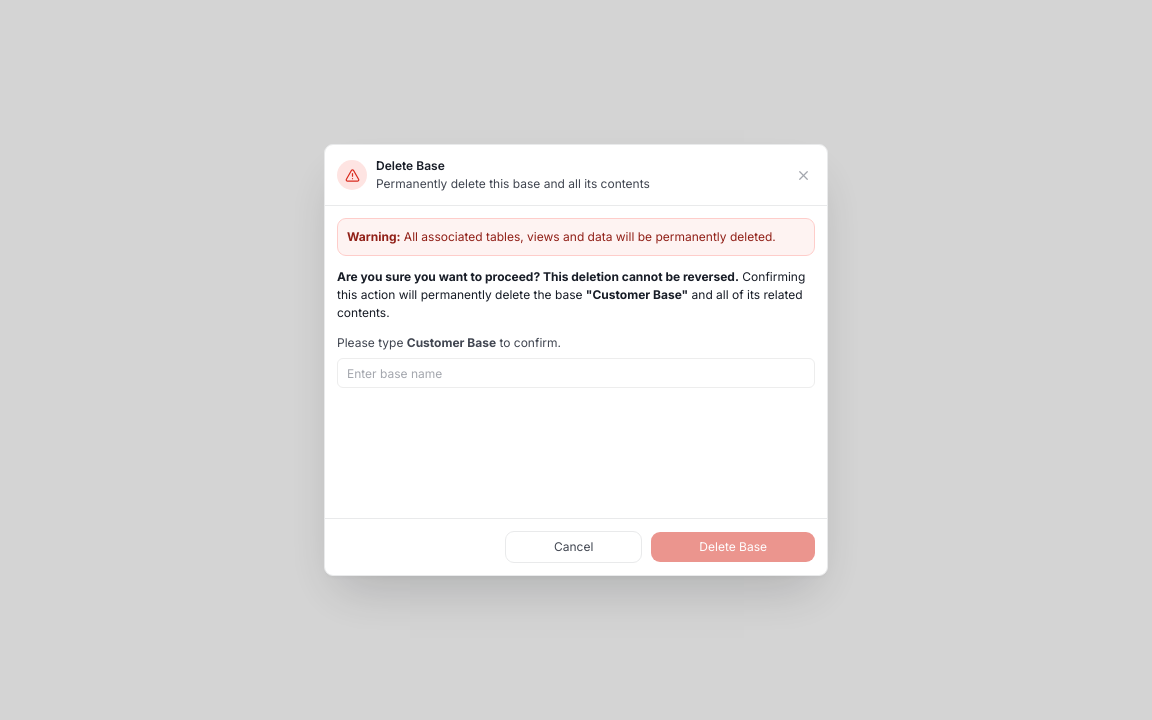
Scenario: DeleteBaseModal › enables delete button only when typed value exactly matches base title
Expected: the button "Delete Base" is disabled, 651,532 -> 815,562
In the field with placeholder "Enter base name": (576, 373) 337,358 -> 815,388, type "customer base"
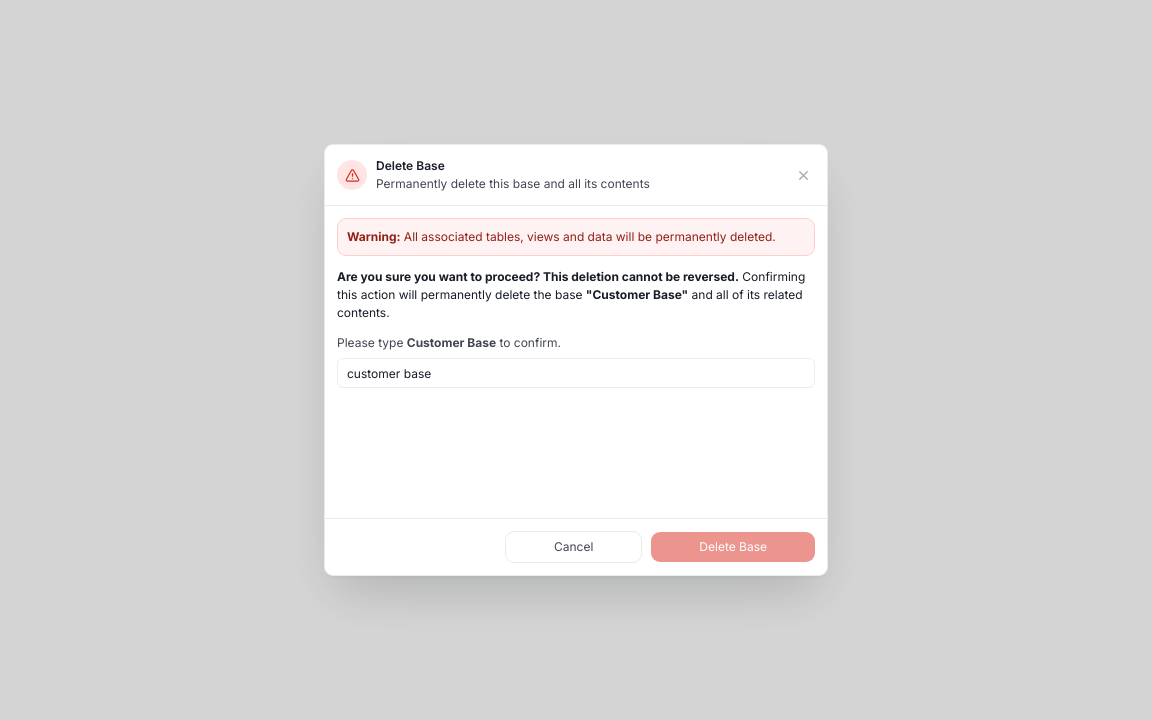
Expected: the button "Delete Base" is disabled, 651,532 -> 815,562
Replace the text in the field with placeholder "Enter base name" with "Customer Base": (576, 373) 337,358 -> 815,388
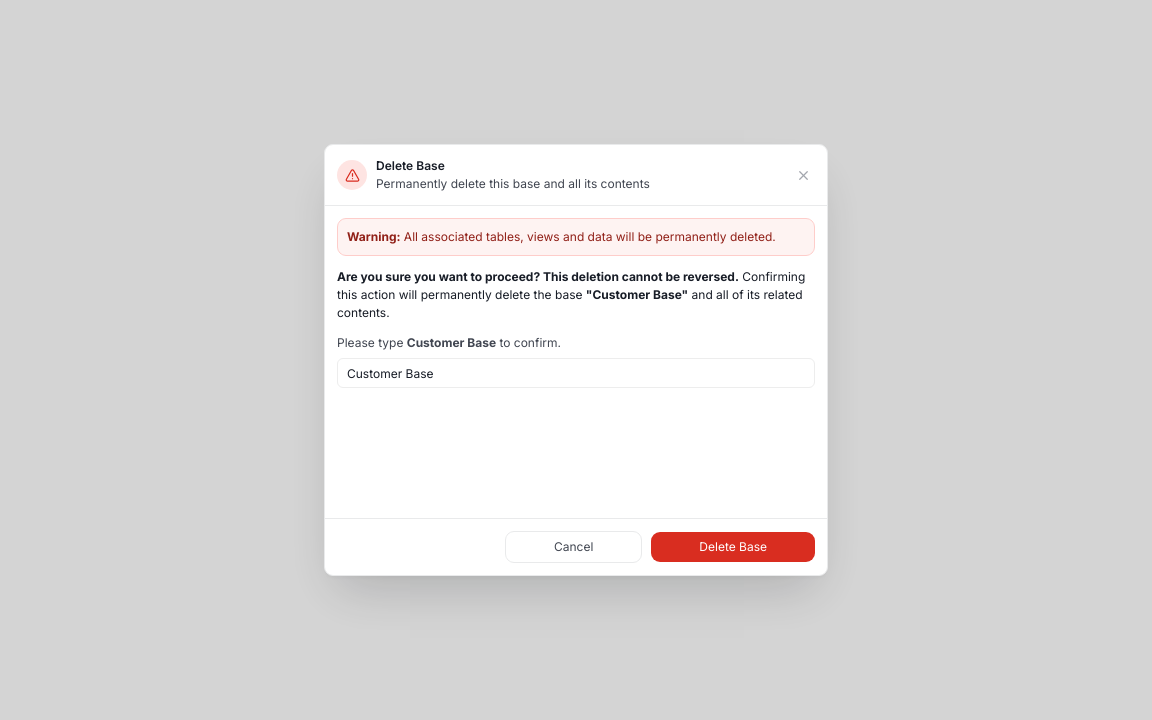
Result: the button "Delete Base" is enabled at 651,532 -> 815,562
